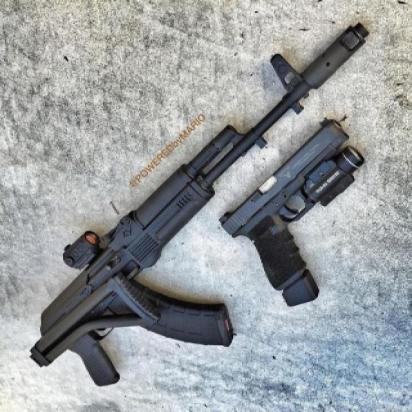Gun: (30, 16, 384, 388)
